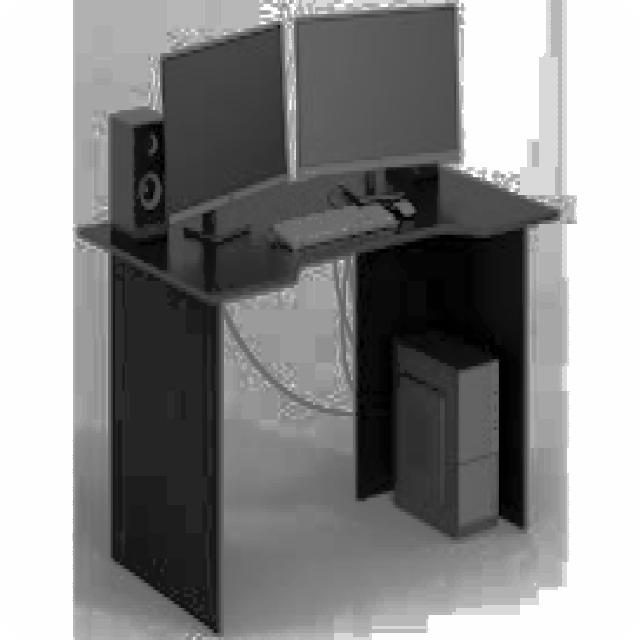table: (75, 160, 560, 633)
